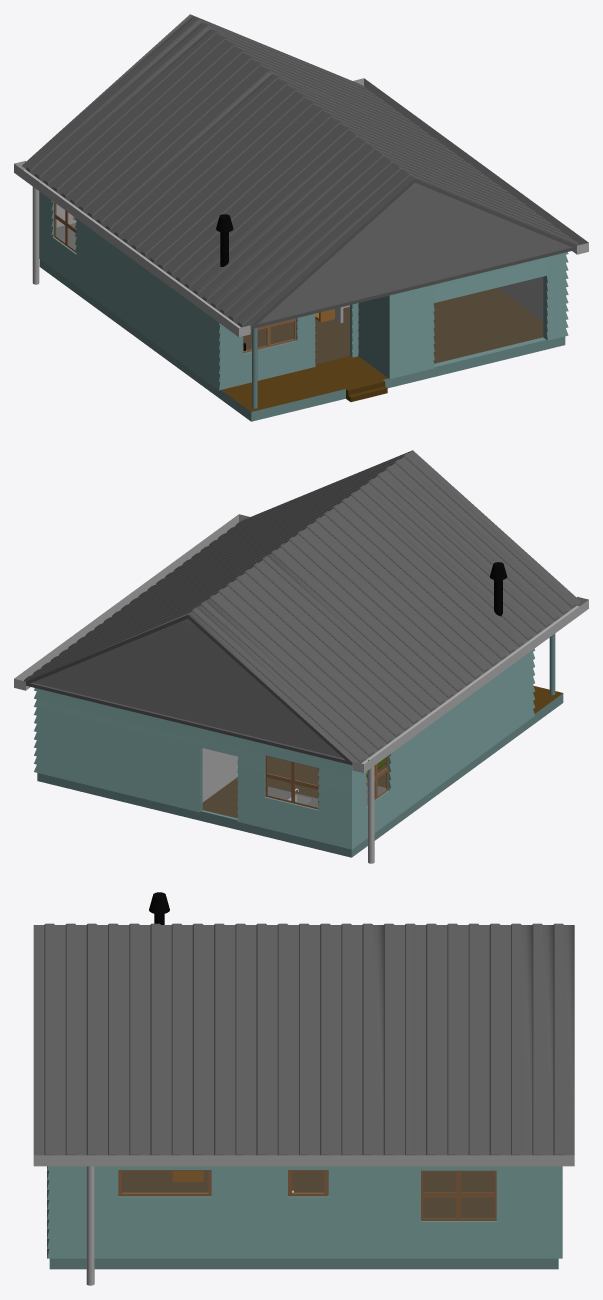
Rendered from betterhouse.glb.
The picture shows the model from 3 angles, top to bottom: view 1: azimuth 30°, elevation 25°; view 2: azimuth 150°, elevation 25°; view 3: azimuth 270°, elevation 25°; orthographic projection. The views are drawn at different scales.
Visible parts, largest first — view 1: Roof.col, House.col, Gutters, Fireplace.col; view 2: Roof.col, House.col, Gutters, Windowframe.004, Fireplace.col; view 3: Roof.col, House.col, Gutters, Windowframe.002, Windowframe.
Boxes of the visible parts, x1=… form: Roof.col: x1=22, y1=14, x2=578, y2=329; House.col: x1=39, y1=191, x2=568, y2=421; Gutters: x1=14, y1=78, x2=588, y2=336; Fireplace.col: x1=216, y1=214, x2=245, y2=350; Roof.col: x1=24, y1=450, x2=580, y2=765; House.col: x1=34, y1=633, x2=563, y2=857; Gutters: x1=14, y1=514, x2=588, y2=863; Windowframe.004: x1=265, y1=755, x2=319, y2=809; Fireplace.col: x1=489, y1=562, x2=507, y2=616; Roof.col: x1=33, y1=923, x2=574, y2=1155; House.col: x1=47, y1=1166, x2=562, y2=1269; Gutters: x1=33, y1=1155, x2=574, y2=1285; Windowframe.002: x1=421, y1=1170, x2=496, y2=1220; Windowframe: x1=118, y1=1170, x2=211, y2=1196.
Size of the model in its own units: 14.3 by 8.51 by 16.9.
